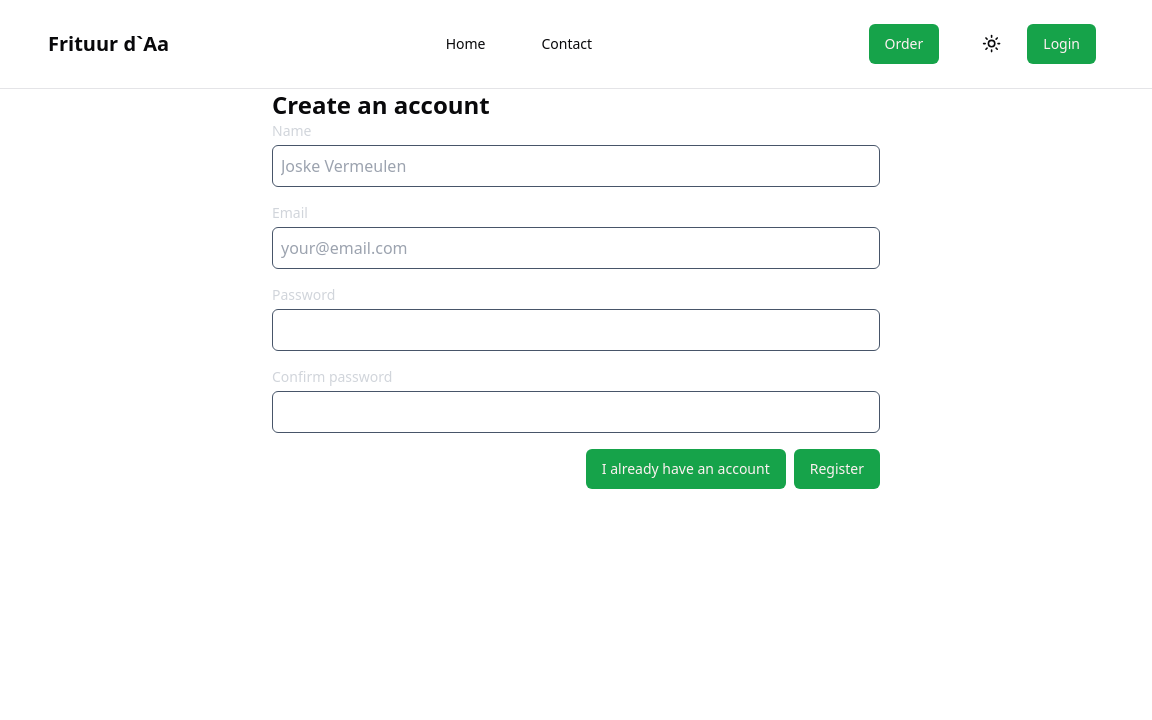
Test case: The Register Page › invalid password
Step 1. Type "test" into the field with test id "name" → x=576, y=166, box left=272, top=145, right=880, bottom=187
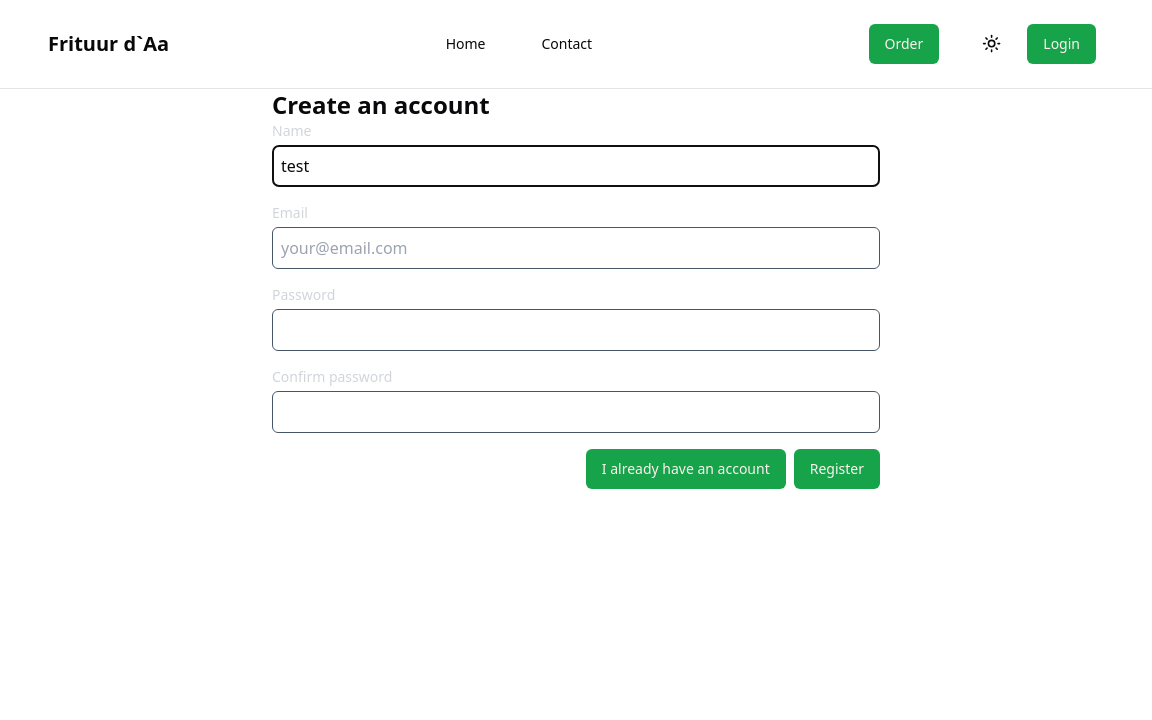
Step 2. Type "test@test.com" into the field with test id "email" → x=576, y=248, box left=272, top=227, right=880, bottom=269
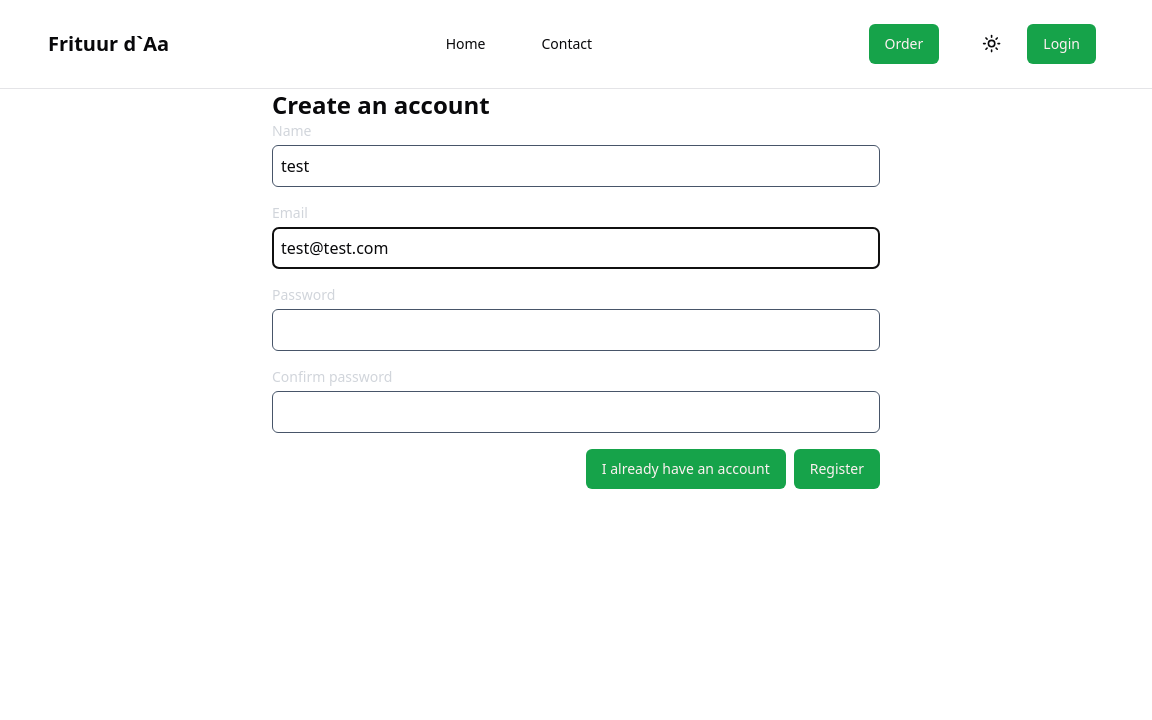
Step 3. Type "pass" into the password field with test id "password" → x=576, y=330, box left=272, top=309, right=880, bottom=351
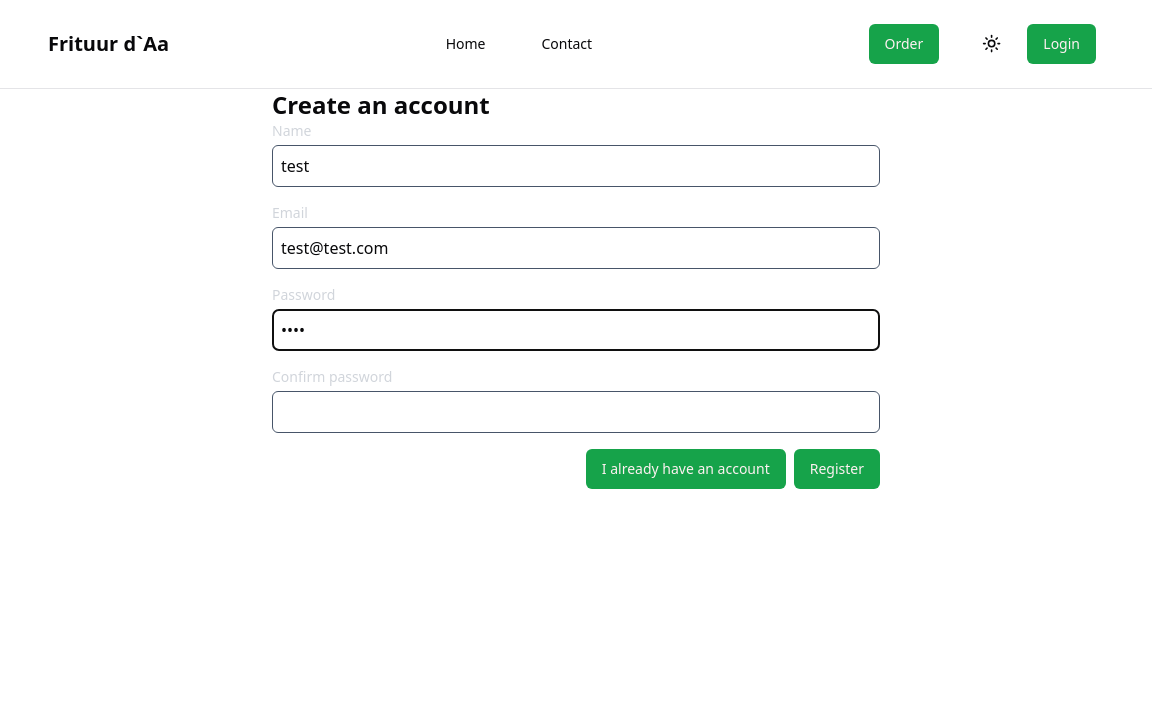
Step 4. Type "password" into the password field with test id "passwordConfirm" → x=576, y=412, box left=272, top=391, right=880, bottom=433
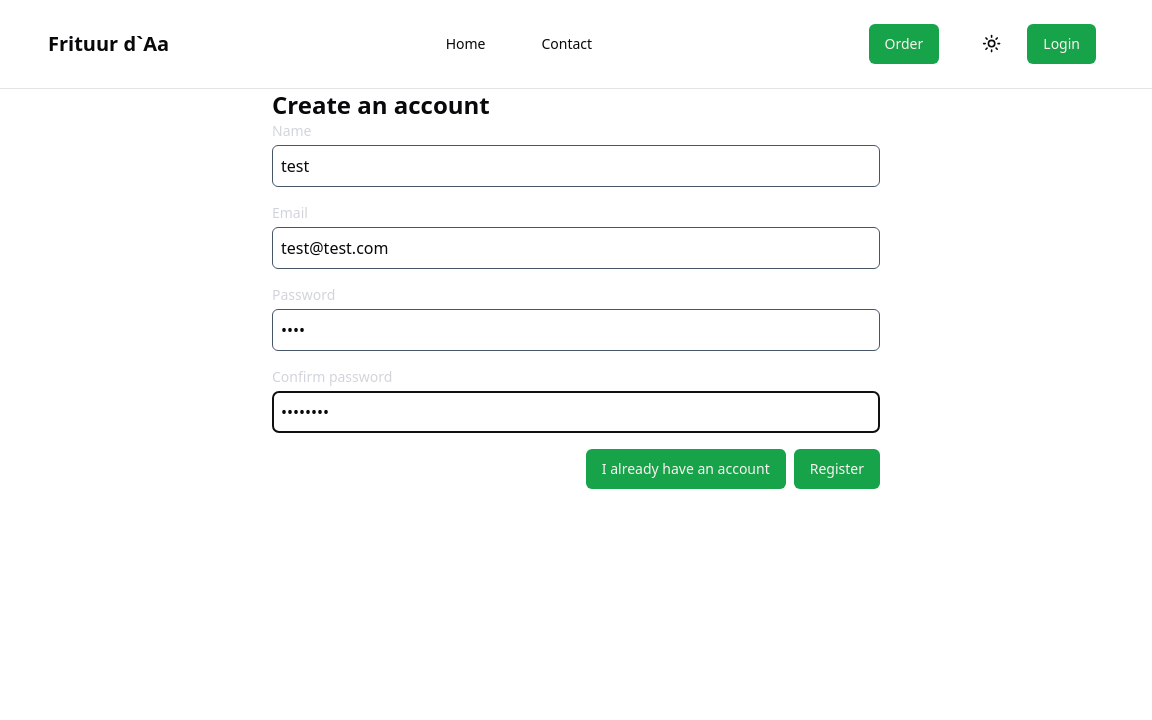
Step 5. Click the button with test id "register" → x=837, y=469, box left=794, top=449, right=880, bottom=489
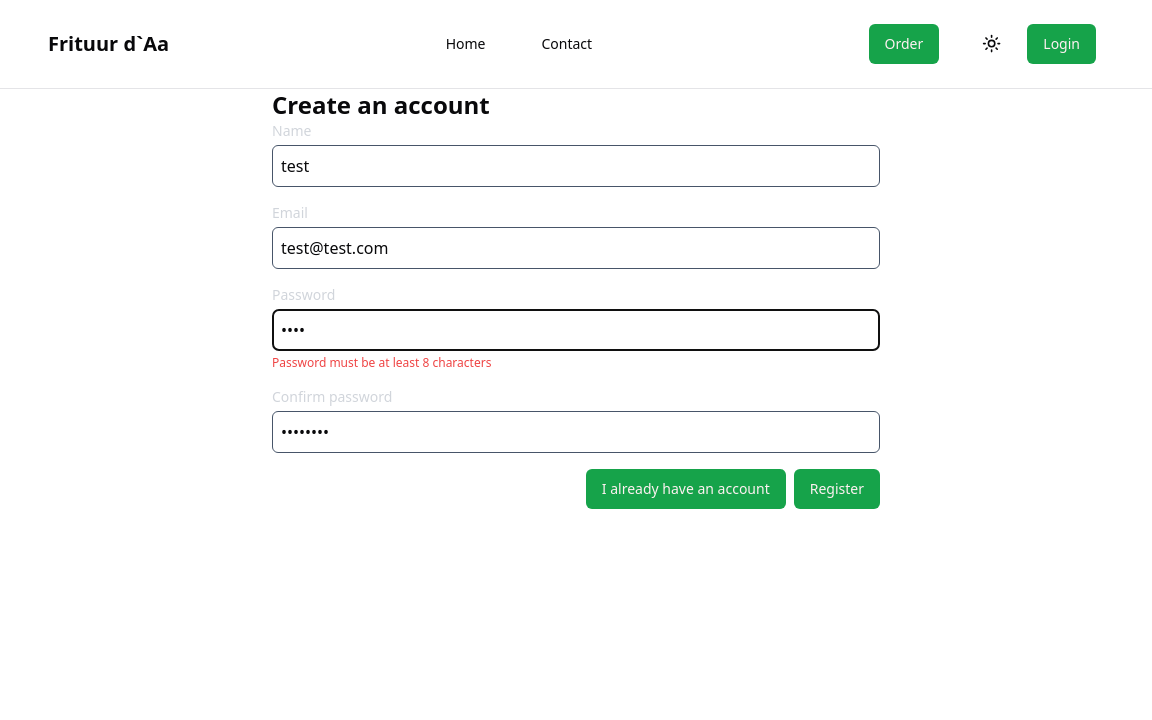
expect the element with test id "error" reads "Password must be at least 8 characters": met, box left=272, top=354, right=491, bottom=371
